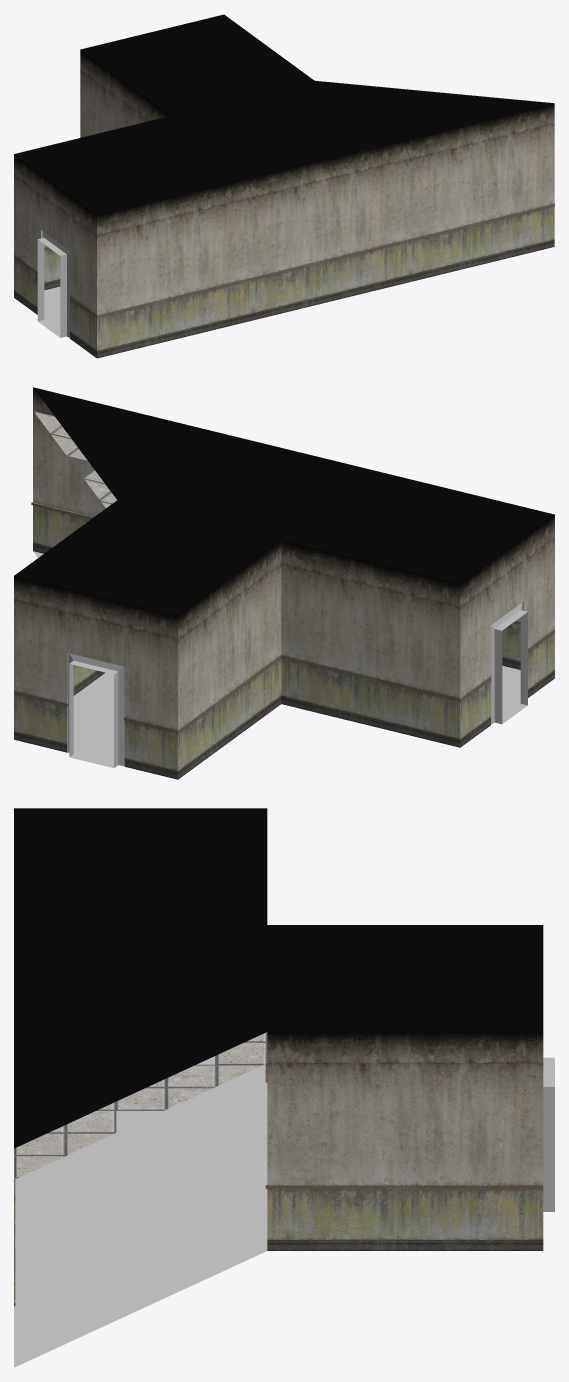
The model's file is Hallway3x5.FBX.
The picture shows the model from 3 angles, top to bottom: view 1: azimuth 30°, elevation 25°; view 2: azimuth 150°, elevation 25°; view 3: azimuth 270°, elevation 25°; orthographic projection. The views are drawn at different scales.
Parts seen in each view (by area): view 1: Hall3x5; view 2: Hall3x5; view 3: Hall3x5.
Part boxes in pixels (x1,y1,x2,y2): Hall3x5: [14, 14, 554, 358]; Hall3x5: [14, 387, 554, 779]; Hall3x5: [14, 808, 554, 1367].
Size of what is drawn, in the model's own units: 1401 by 413 by 925.
